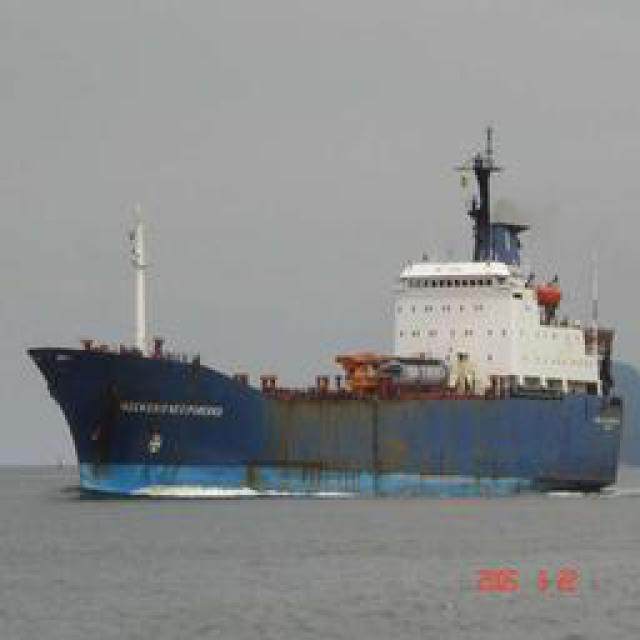Ship: (24, 116, 626, 496)
